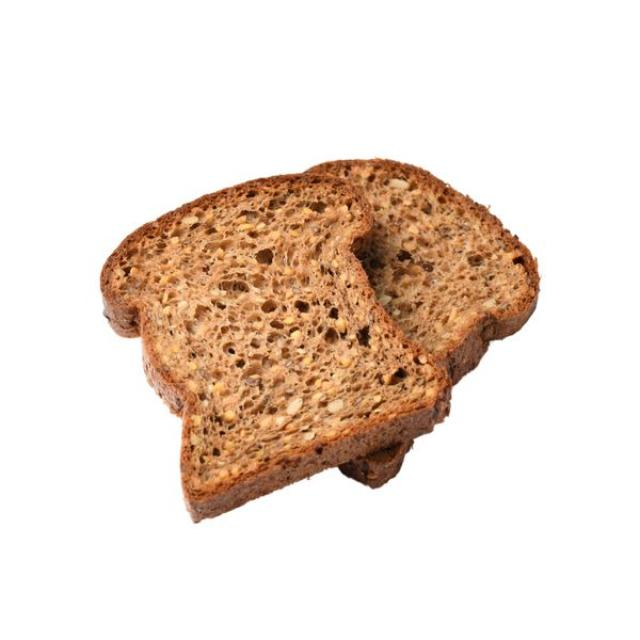sliced bread: (102, 174, 450, 520), (310, 159, 538, 382)
